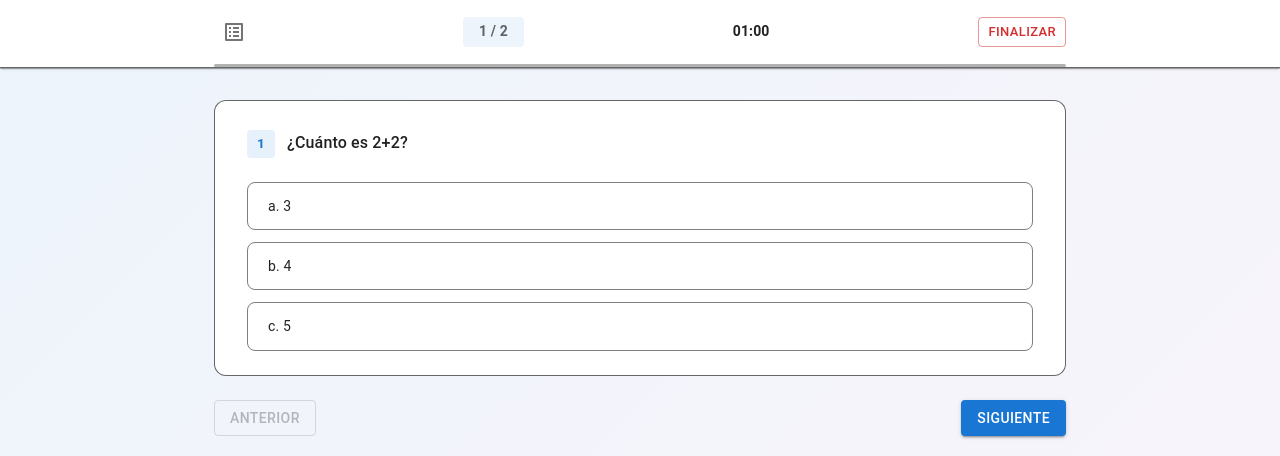
it: QuestionaryView › should navigate to next question
This screenshot has width=1280, height=456.
Click the button "Siguiente": coordinates (1014, 418) x1=961 y1=400 x2=1066 y2=436
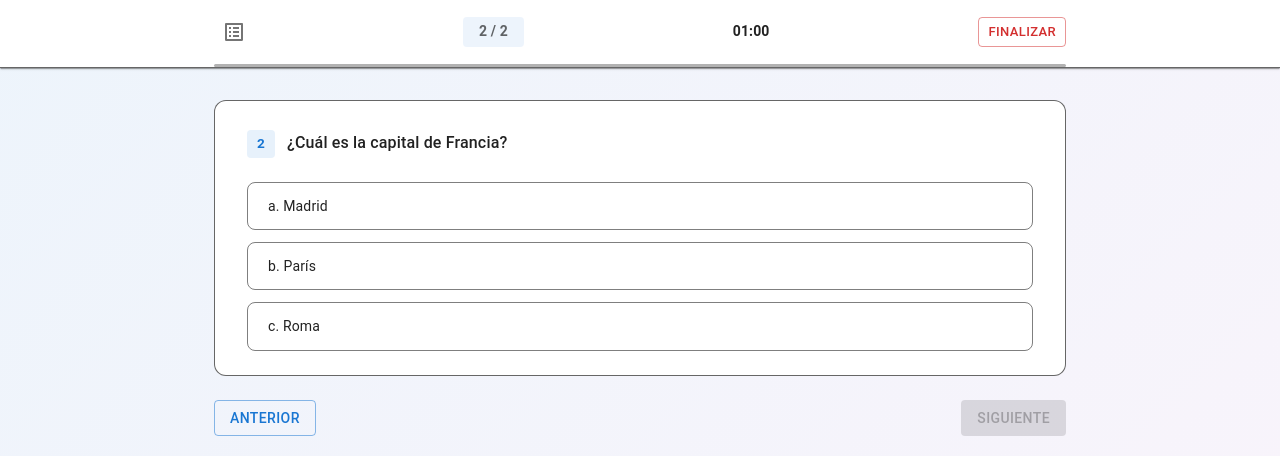
expect the text "2 ¿Cuál es la capital de Francia?" is shown: met, box x1=247 y1=130 x2=507 y2=158
expect the heading "2 / 2" is shown: met, box x1=463 y1=17 x2=524 y2=47
